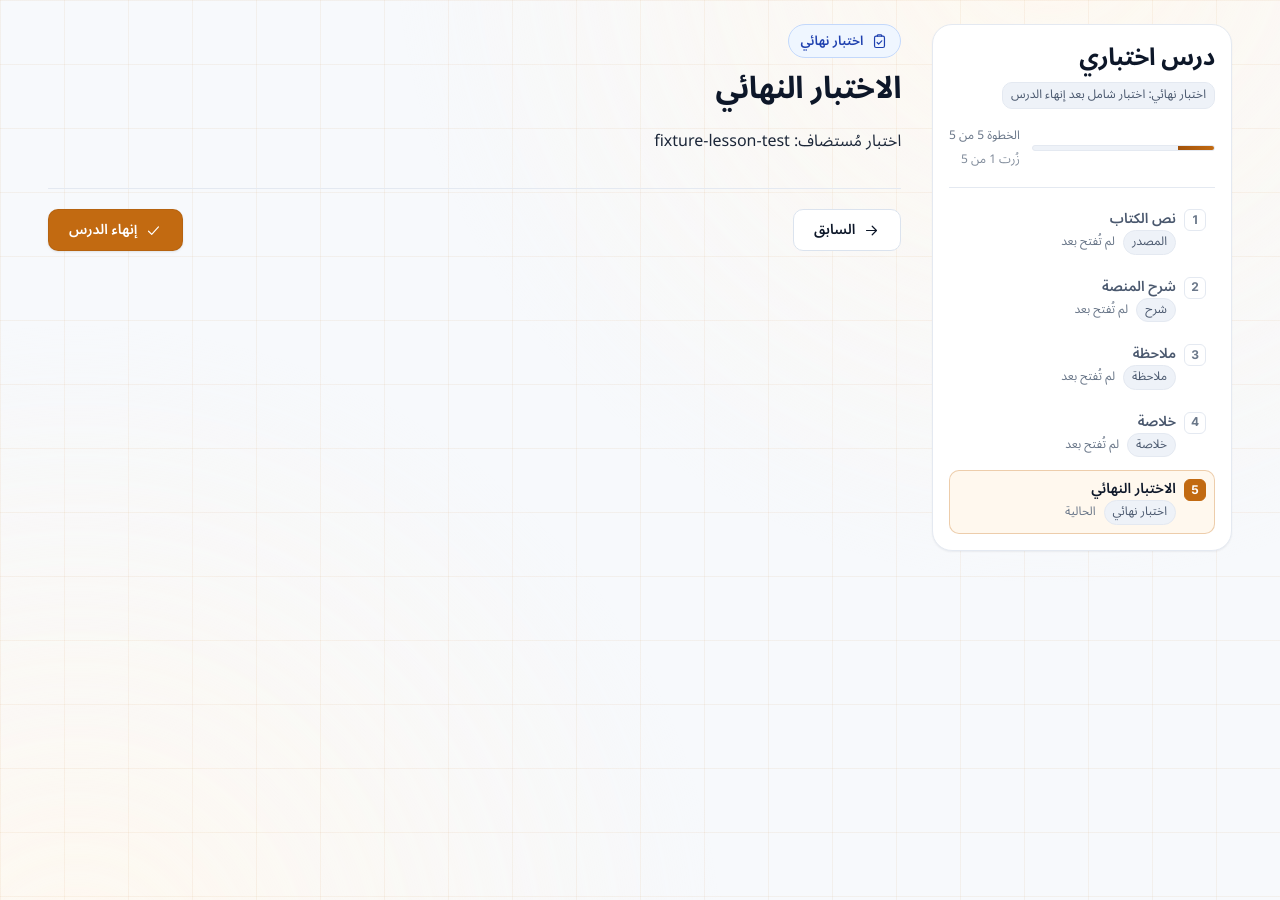
Test: LessonFlow — one meaningful step at a time › hosts a final test when one is attached to the step
Expected: the text "اختبار مُستضاف: fixture-lesson-test" is shown, top-left (654, 124), bottom-right (901, 158)
// The step itself is still one step of the flow.
What coordinates should you click on to do the following:
click the button "السابق"
I would click on:
 (847, 230)
Its box is top-left (793, 209), bottom-right (901, 251).
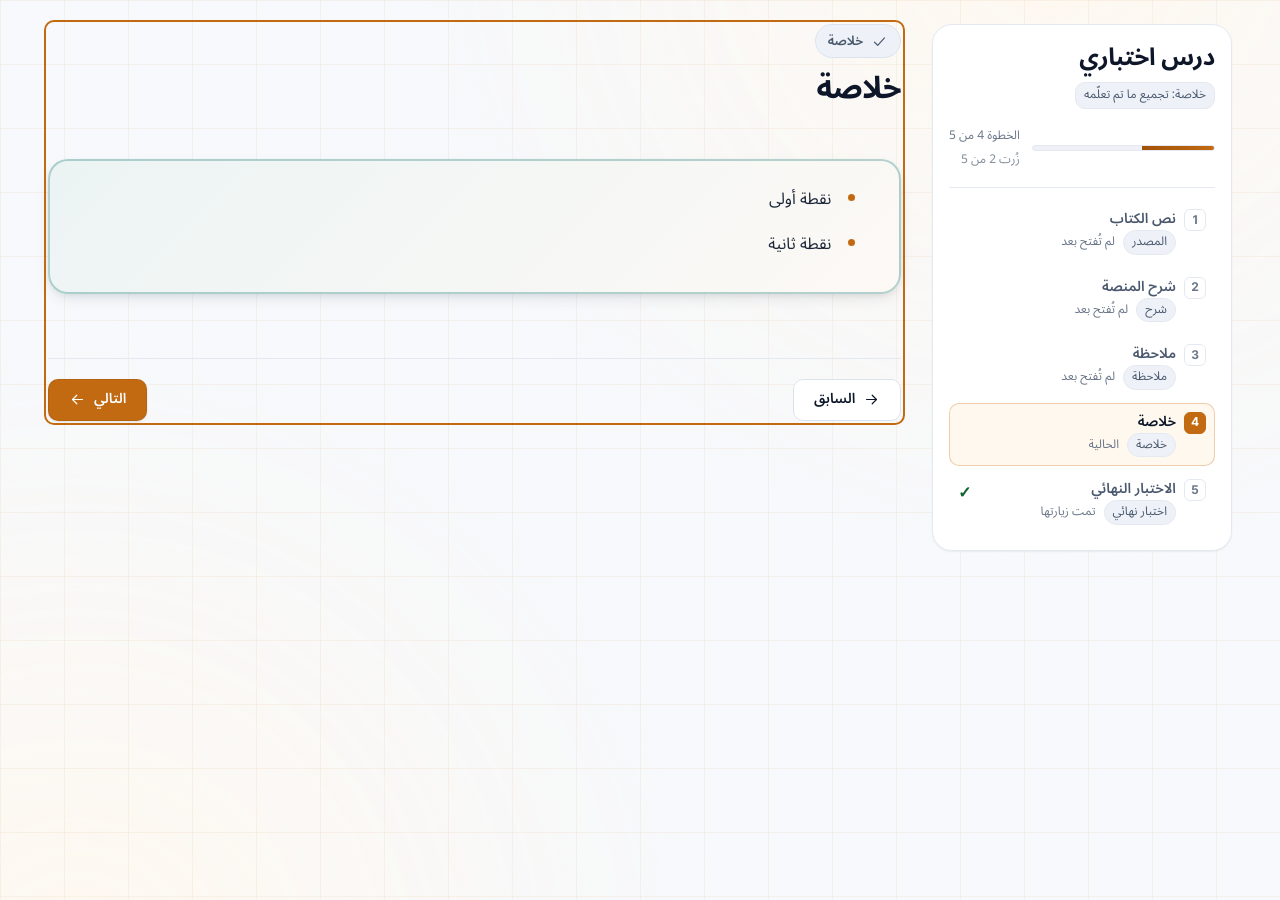
Result: the text "نقطة أولى" is shown at top-left (769, 182), bottom-right (831, 216)
